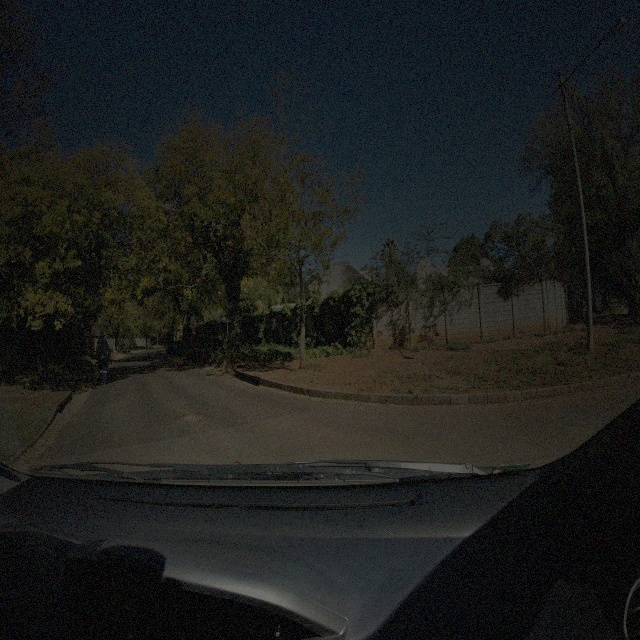pothole: (175, 411, 207, 425)
